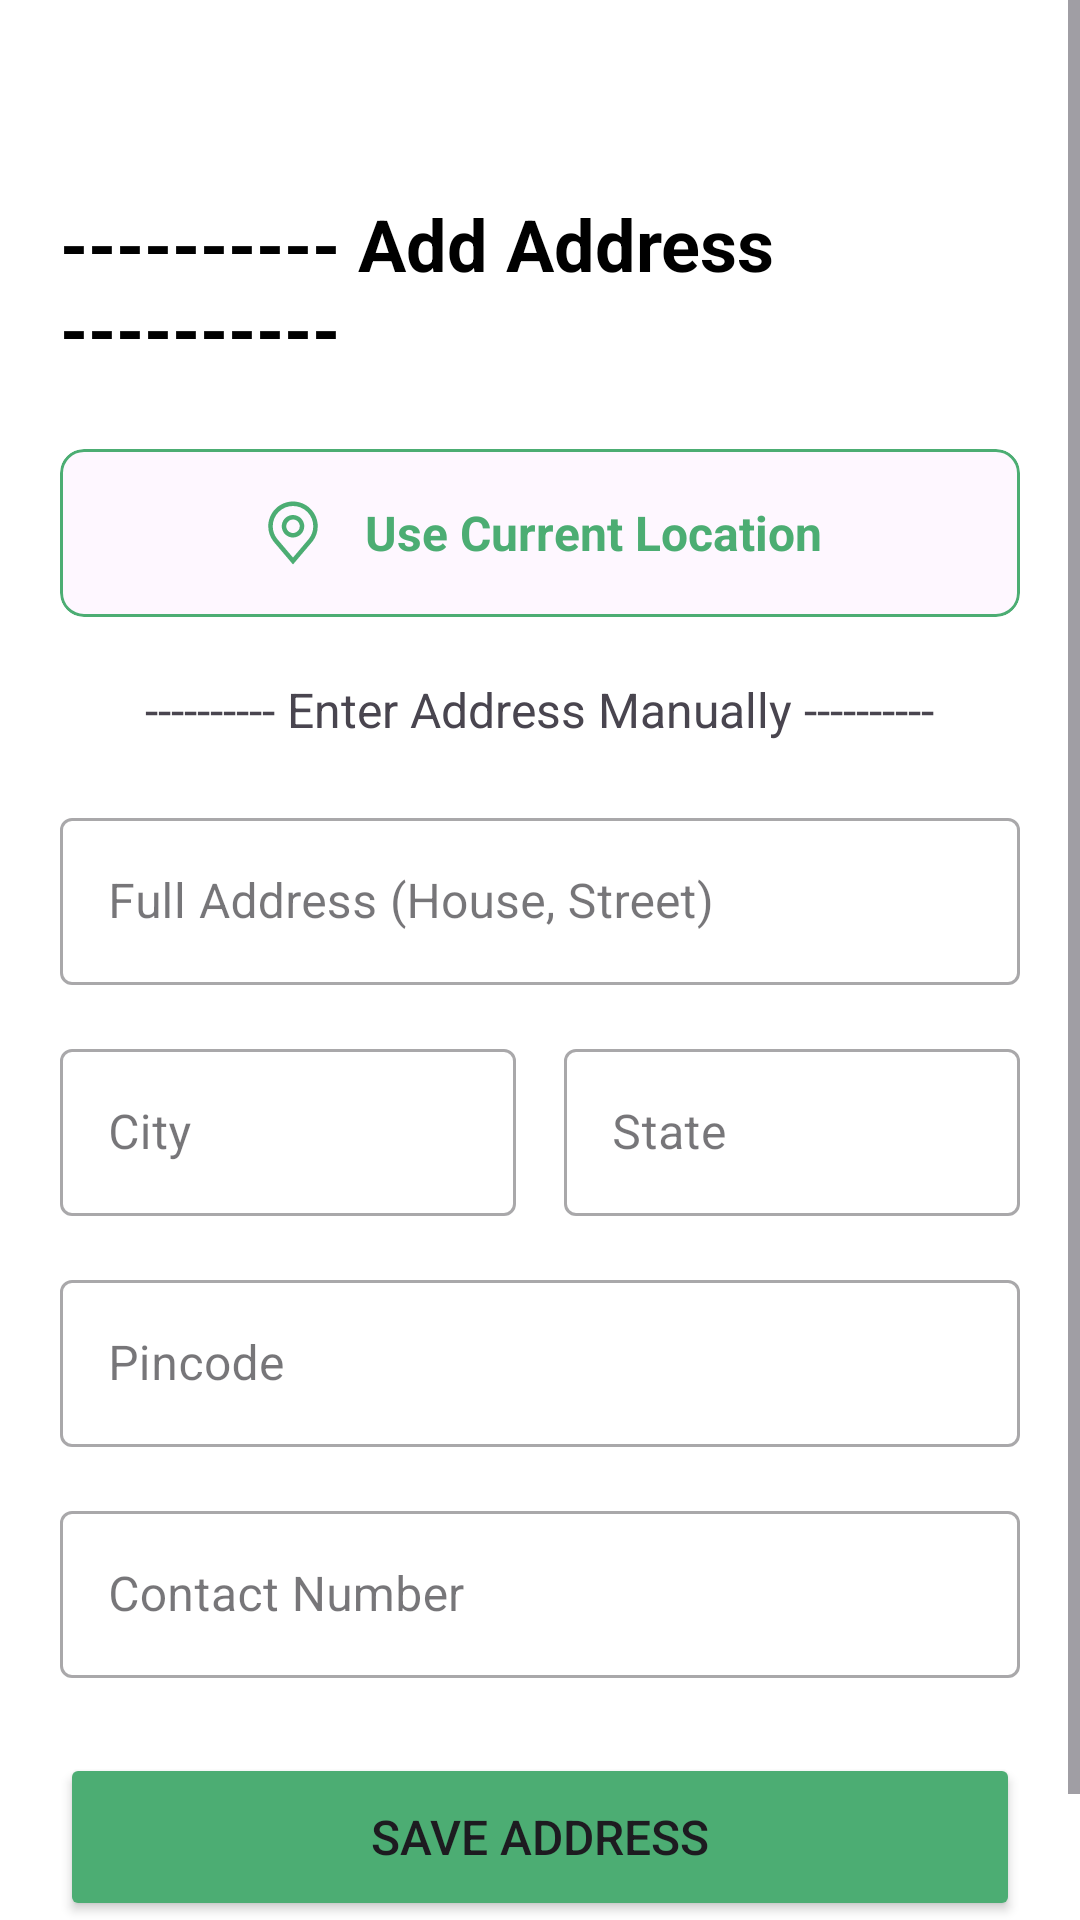

Icon bounding boxes for this 1080px x 1920px phone screenshot, format (x1, y1, x2, y2):
carbon location: (268, 501, 318, 564)
